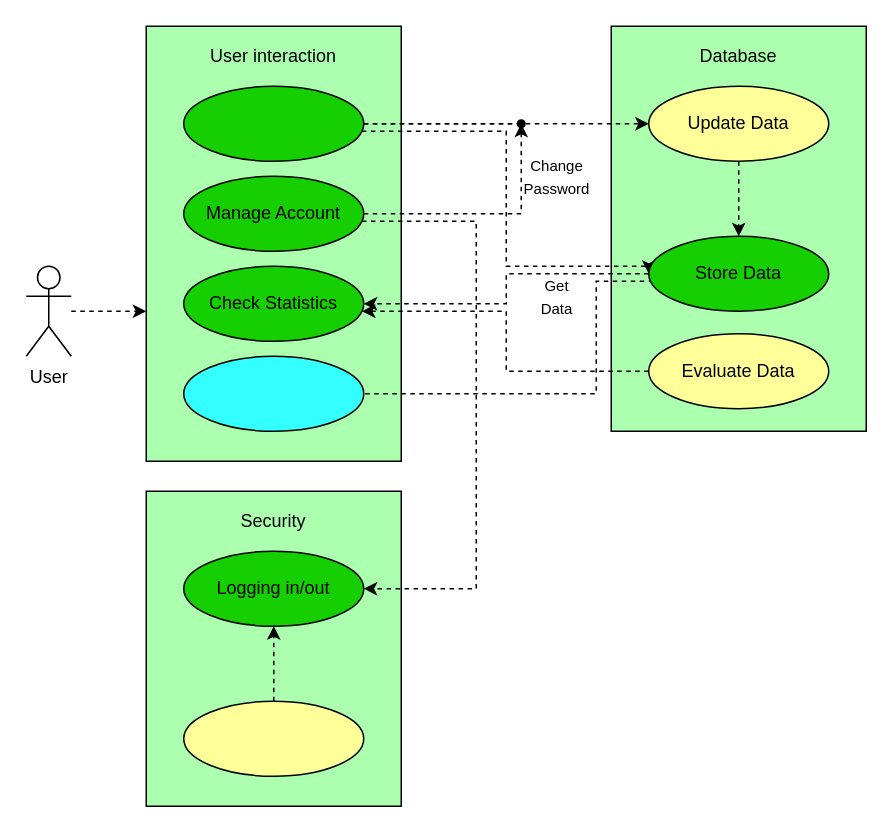
The diagram is 893 pixels wide and 833 high, and some of its shapes have lost their labels. Here are the shapes that lost their labels. From the top down, the centre of each, then its label:
At point 273,123: "Play Game".
At point 273,393: "Play Versus".
At point 273,738: "Token System".
